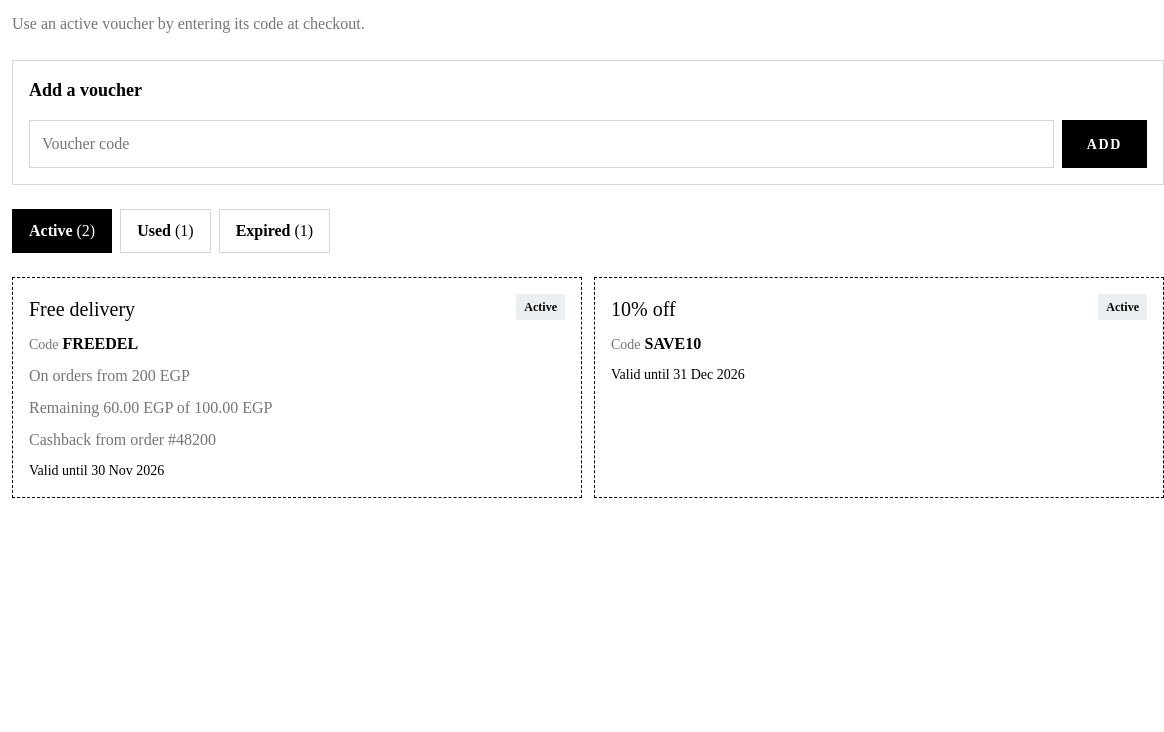
Test: vouchers page (as the backend wrote it) › adding a code shows the backend answer: the new list, or its reason
Type "NOPE" into the field labelled "Voucher code". click: (541, 144)
box: [29,120,1054,168]
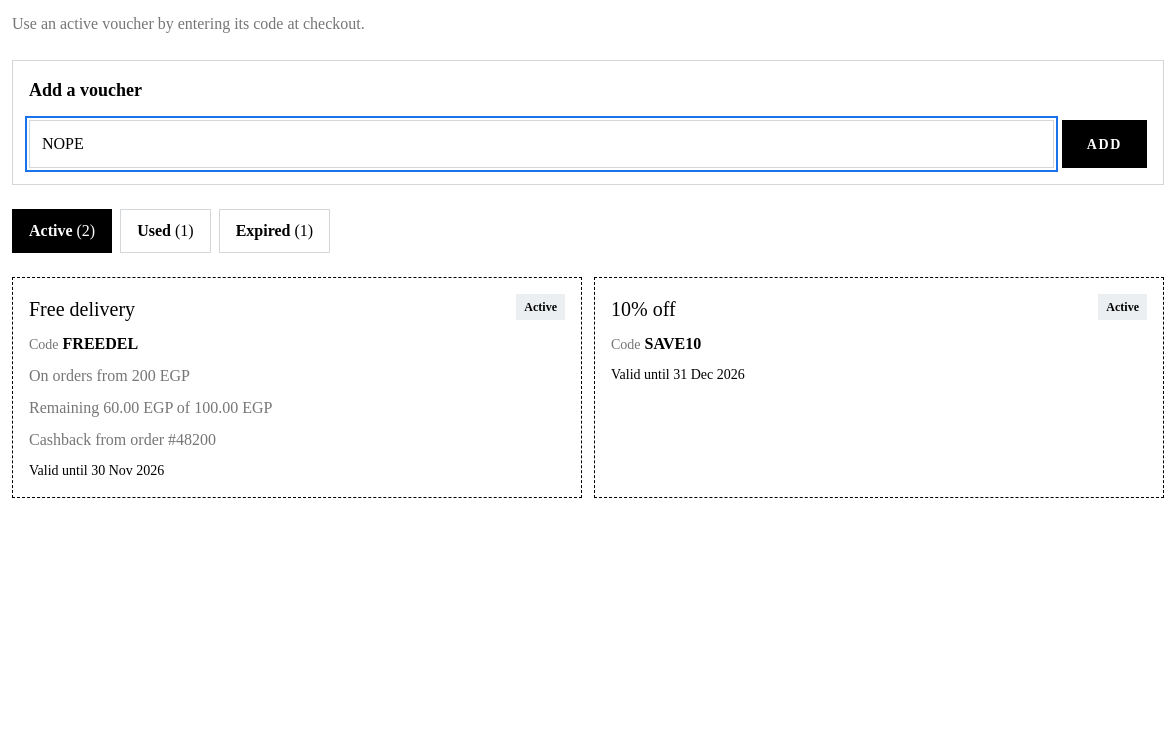
Click the button "Add". click: (1104, 144)
box: [1062,120,1147,168]
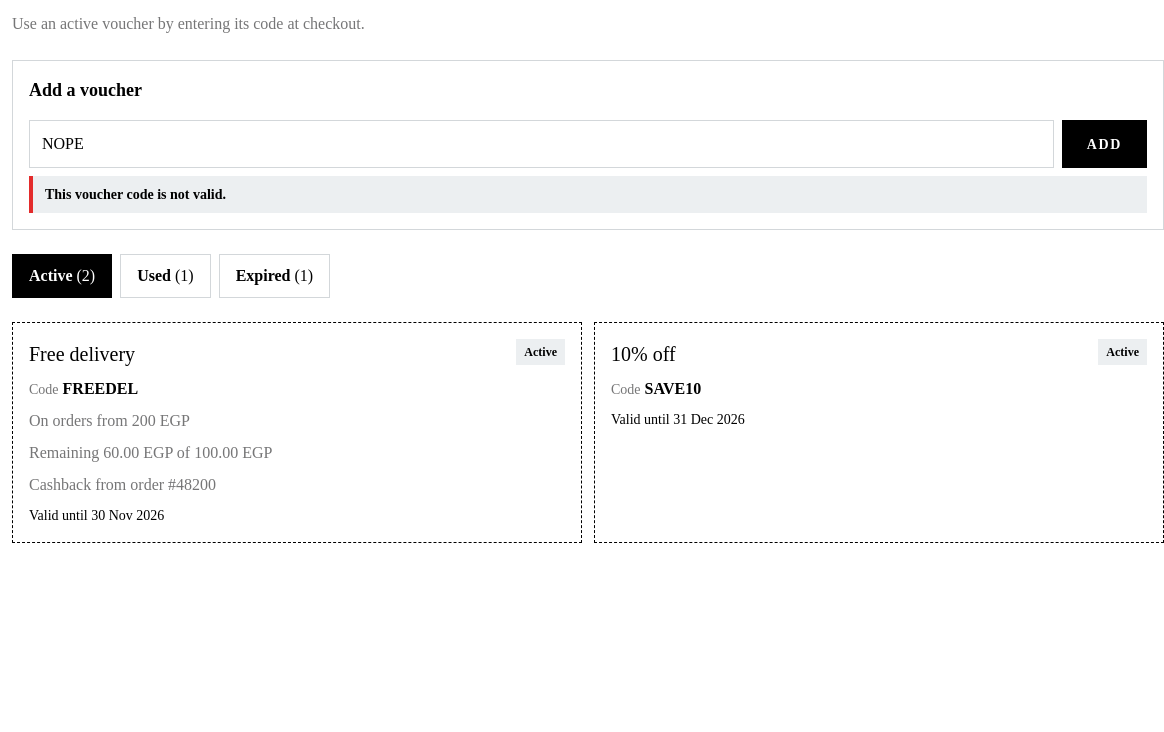
Result: the message with test id "voucher-add-result" reads "This voucher code is not valid." at [45,187,226,202]
Result: the message "This voucher code is not valid." is shown at [29,176,1147,213]
Replace the text in the field named "Voucher code" with "WELCOME20". click: (541, 144)
box: [29,120,1054,168]
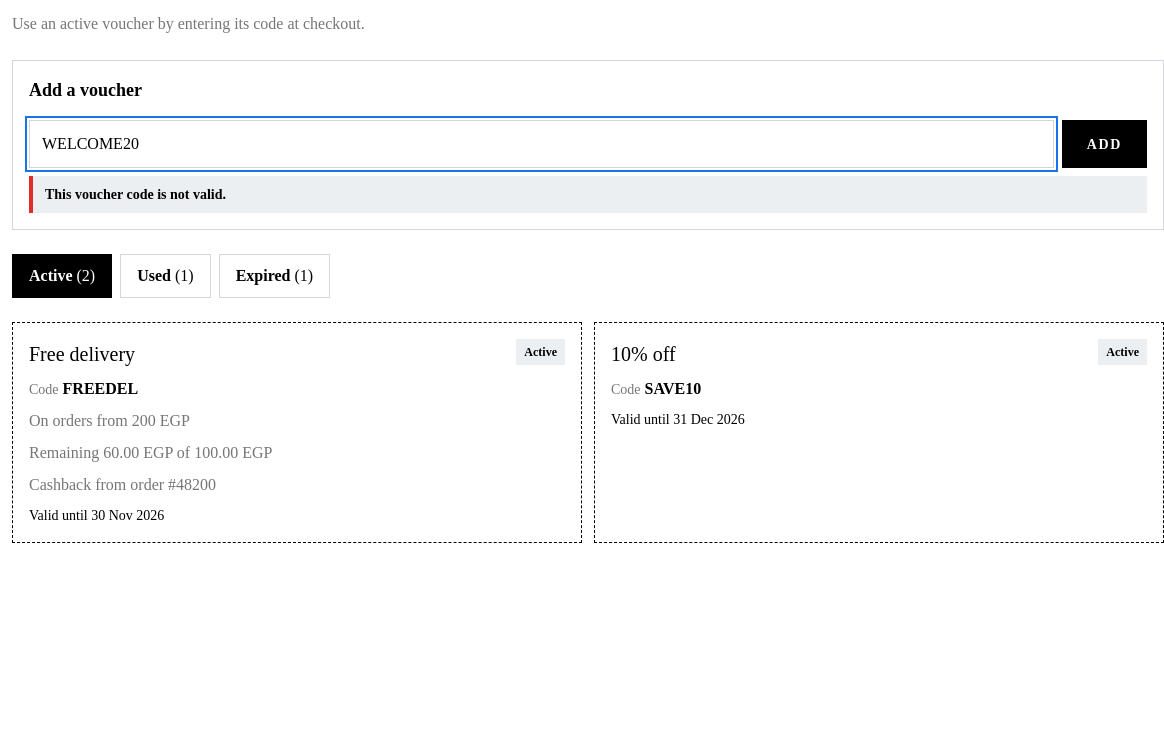
Click the button "Add". click: (1104, 144)
box: [1062,120,1147,168]
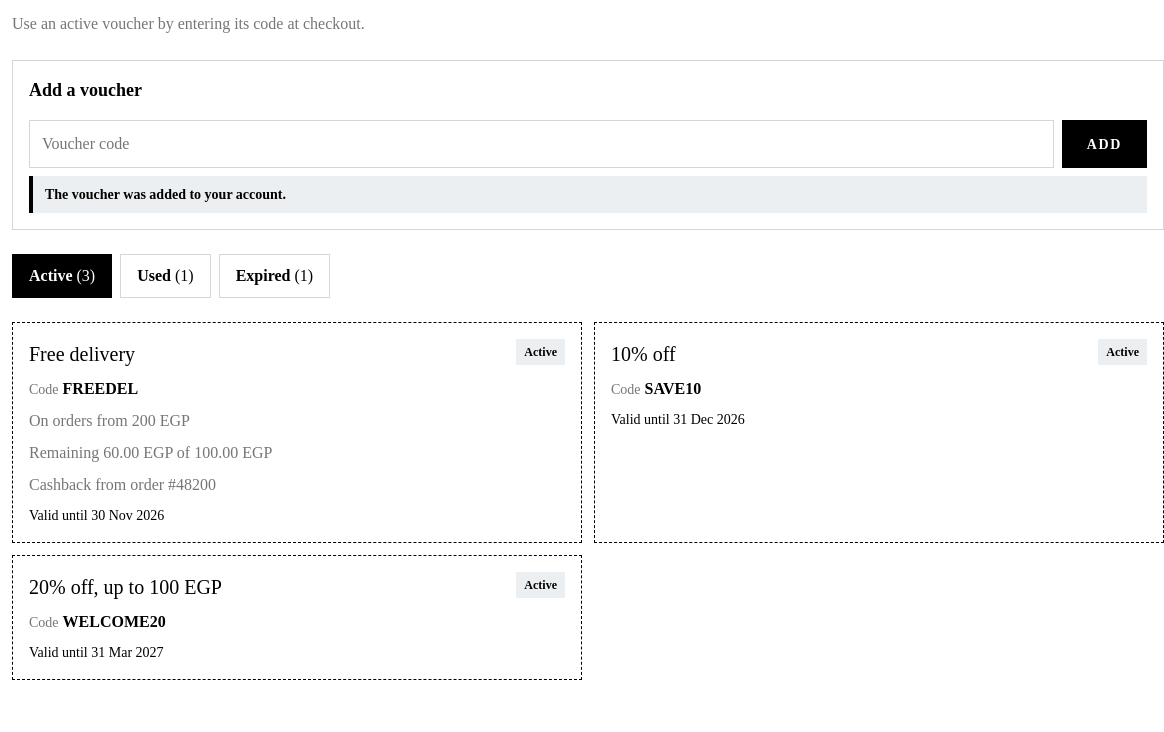
Result: the message with test id "voucher-add-result" reads "The voucher was added to your account." at [45,187,286,202]
Result: the text with test id "voucher-code" reads "WELCOME20" at [63,613,166,630]
